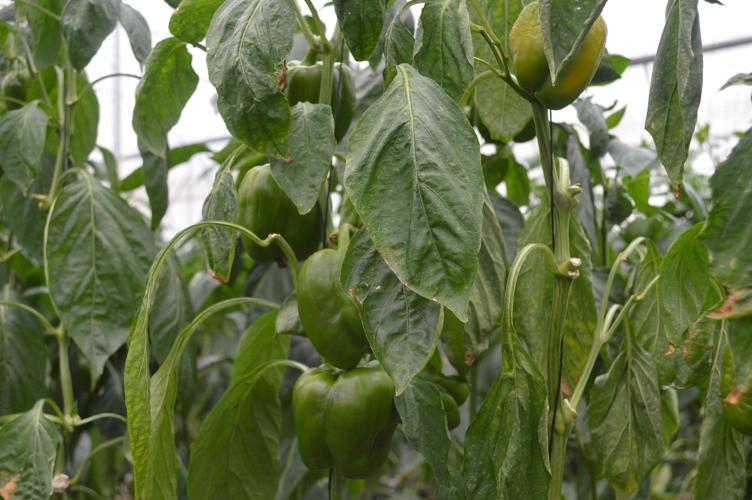BellPepper: (278, 370, 406, 498), (228, 166, 323, 274), (279, 258, 368, 371), (273, 53, 362, 132)
